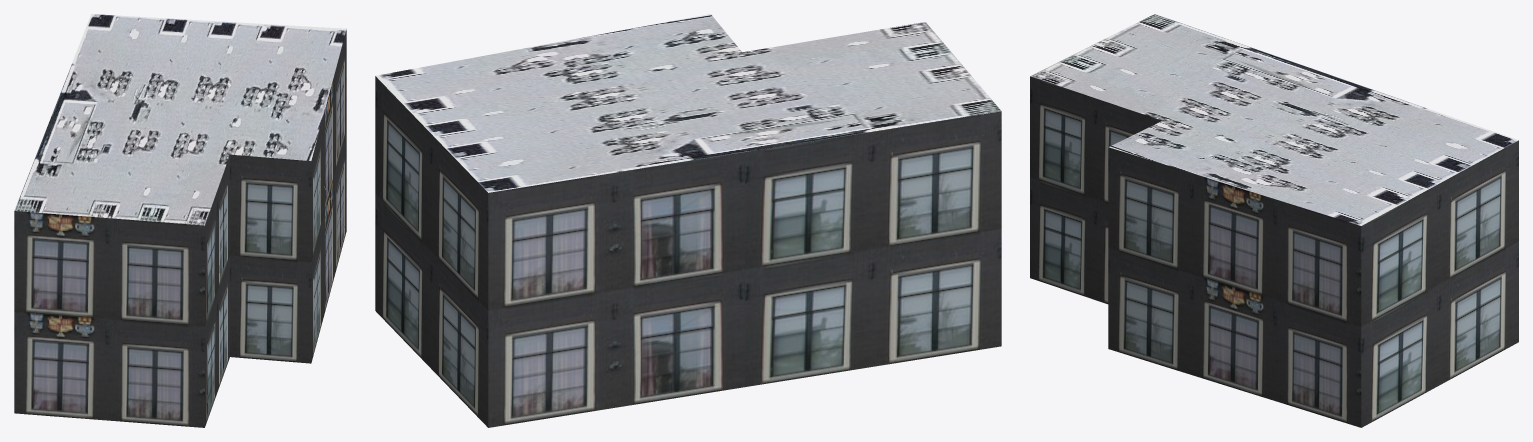
File: ResTex__1418.fbx
3 views of the same model, side by side, from view 1: azimuth 30°, elevation 25°; view 2: azimuth 150°, elevation 25°; view 3: azimuth 270°, elevation 25° (orthographic). The views are drawn at different scales.
Visible parts, largest first — view 1: CityEngineMaterial_22_m, CityEngineMaterial_2_m; view 2: CityEngineMaterial_22_m, CityEngineMaterial_2_m; view 3: CityEngineMaterial_22_m, CityEngineMaterial_2_m.
Part boxes in pixels (x1,y1,x2,y2): CityEngineMaterial_22_m: (14,29,346,427); CityEngineMaterial_2_m: (14,14,346,225); CityEngineMaterial_22_m: (375,76,1001,427); CityEngineMaterial_2_m: (375,14,1001,192); CityEngineMaterial_22_m: (1030,76,1518,427); CityEngineMaterial_2_m: (1030,14,1518,225).
Bounding box in the file's own units: 13.52 × 6 × 13.17.
2 materials, 2 textured.
